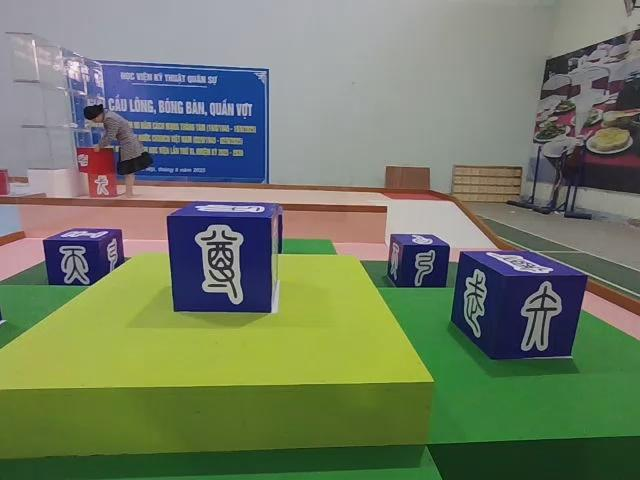R2 Fake Blue: (452, 250, 586, 361), (167, 202, 283, 313), (43, 228, 127, 287), (387, 233, 450, 289)
